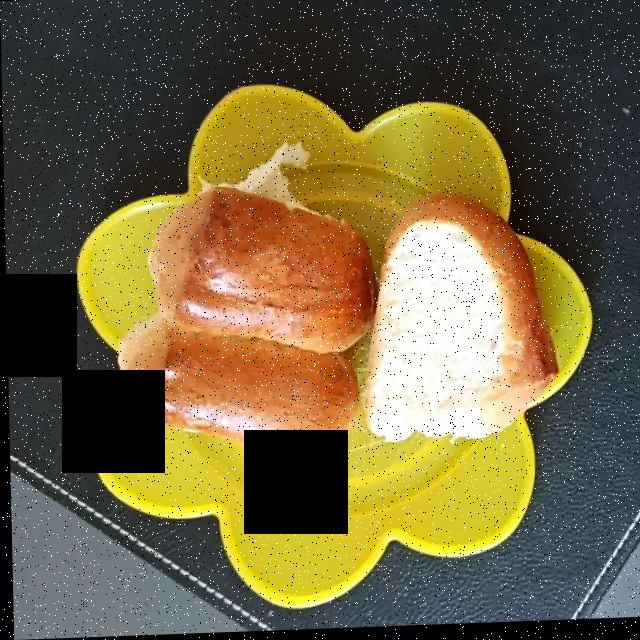bread-ticino: (112, 143, 570, 468)
